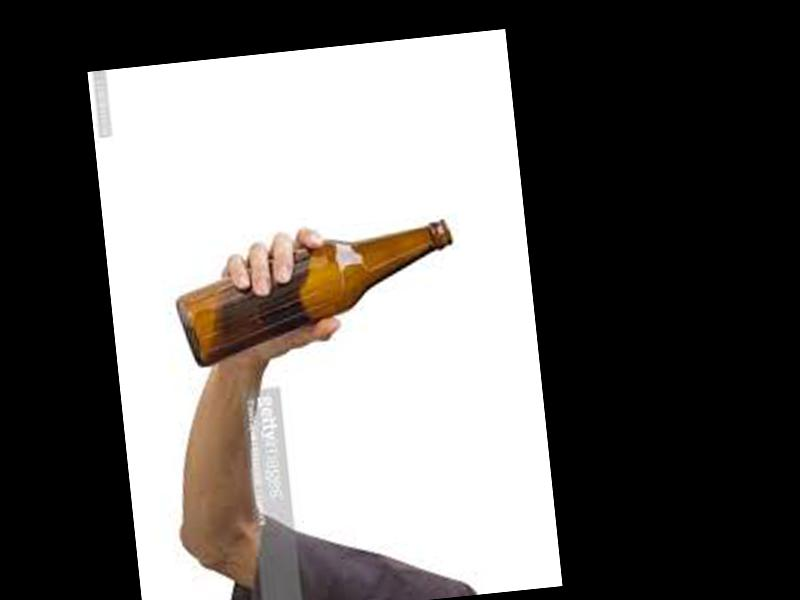Beer: (172, 219, 461, 371)
